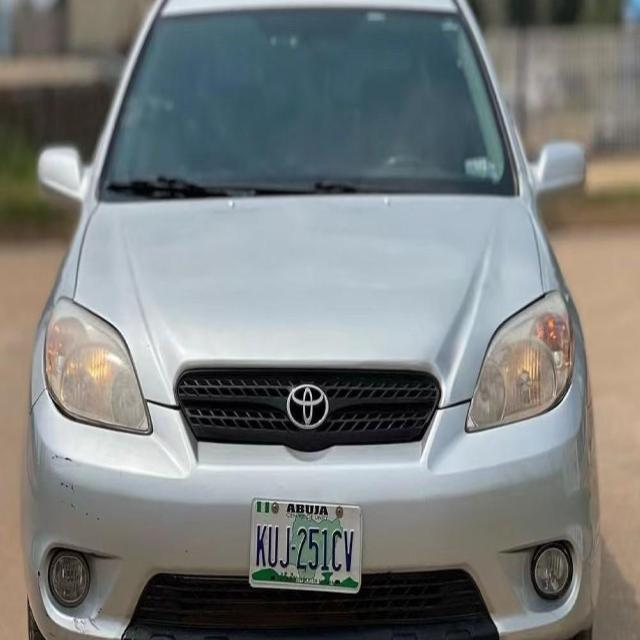Nigerian License Plate - vdataset benjamin-daria: (248, 492, 366, 597)
